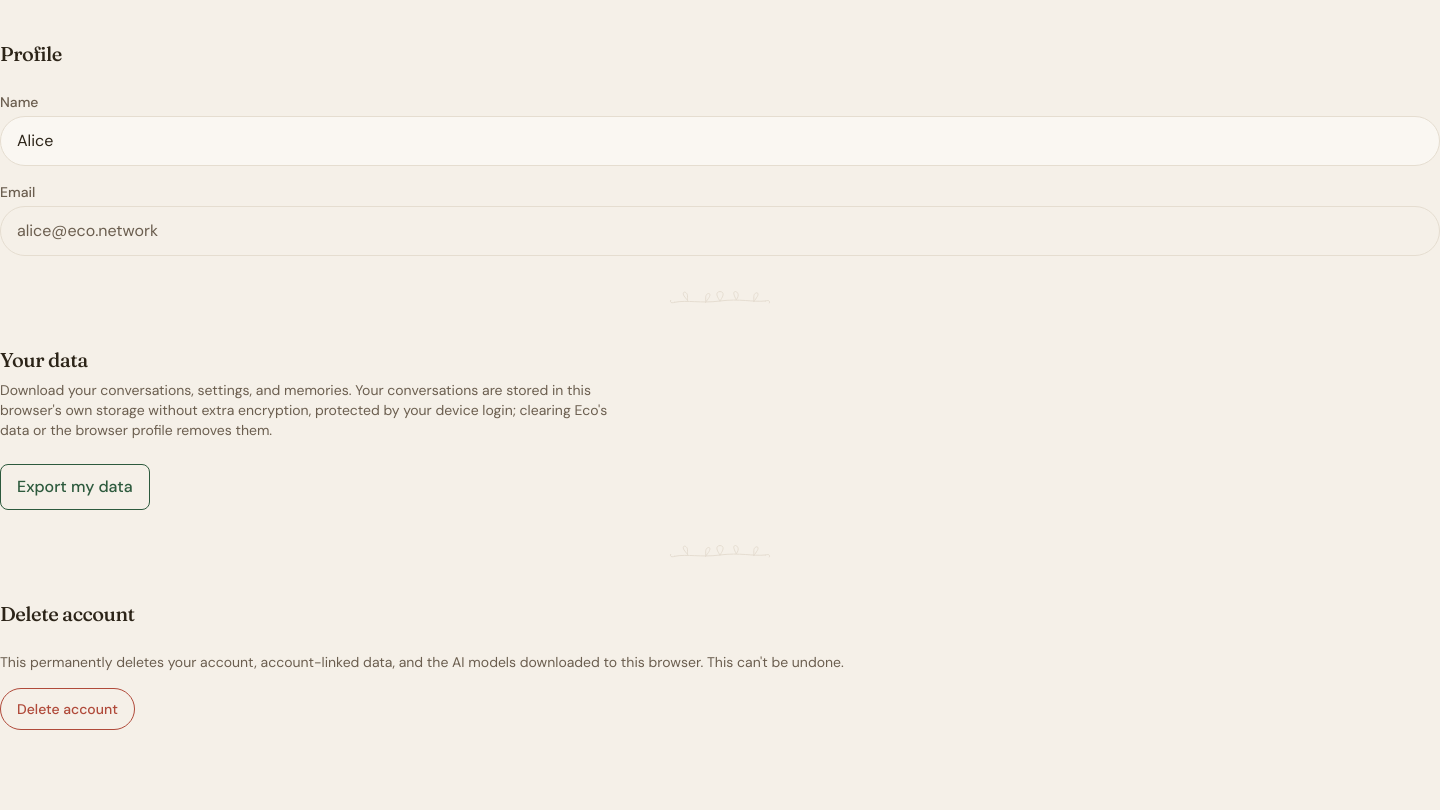
AccountTab › shows the api reauthentication message and deletes nothing
This screenshot has width=1440, height=810.
expect the field showing "alice@eco.network" is shown: met, box 0,206 -> 1439,256
Click the button "Delete account" at x=67, y=709, box 0,688 -> 135,730
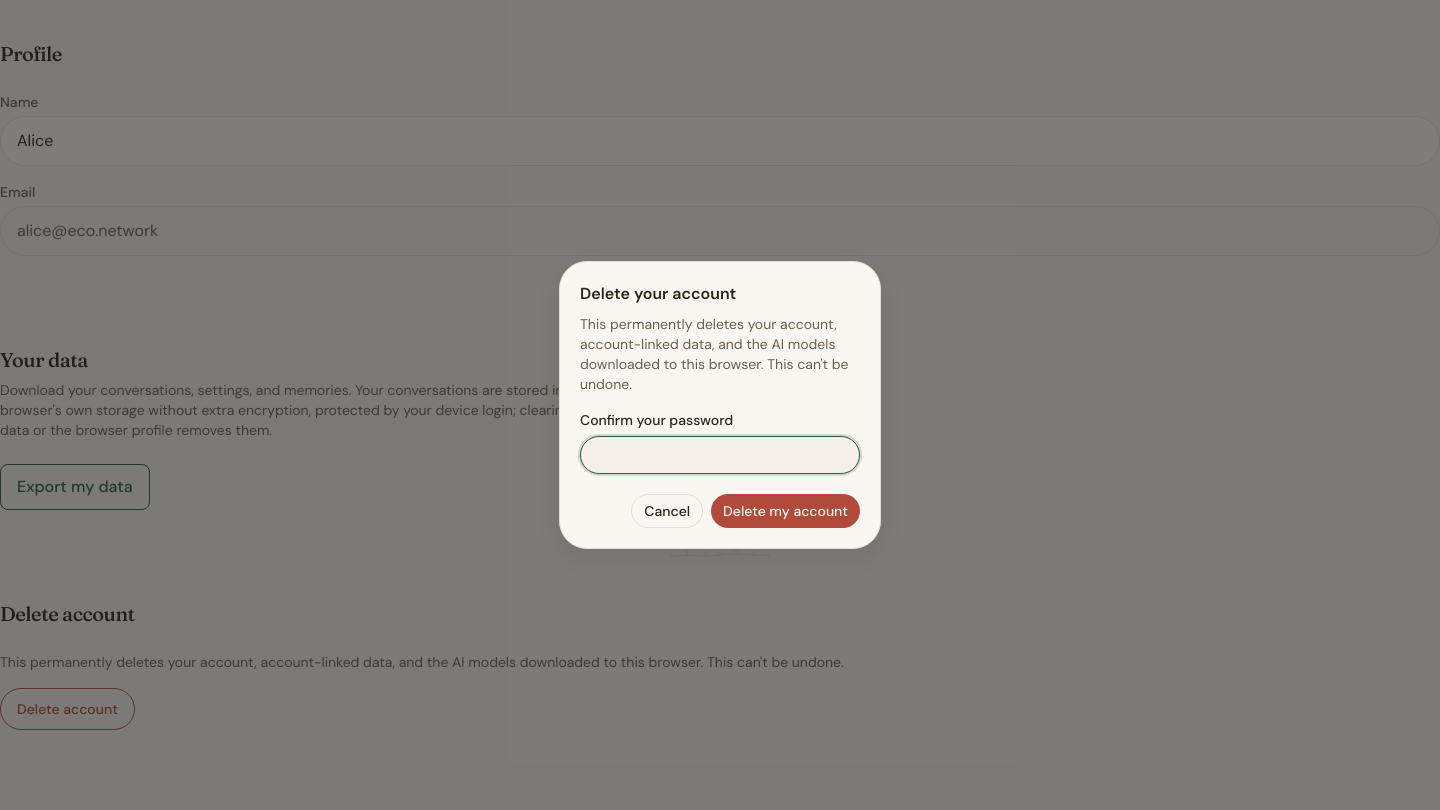
Click the button "Delete my account" at x=786, y=511, box 711,494 -> 860,528
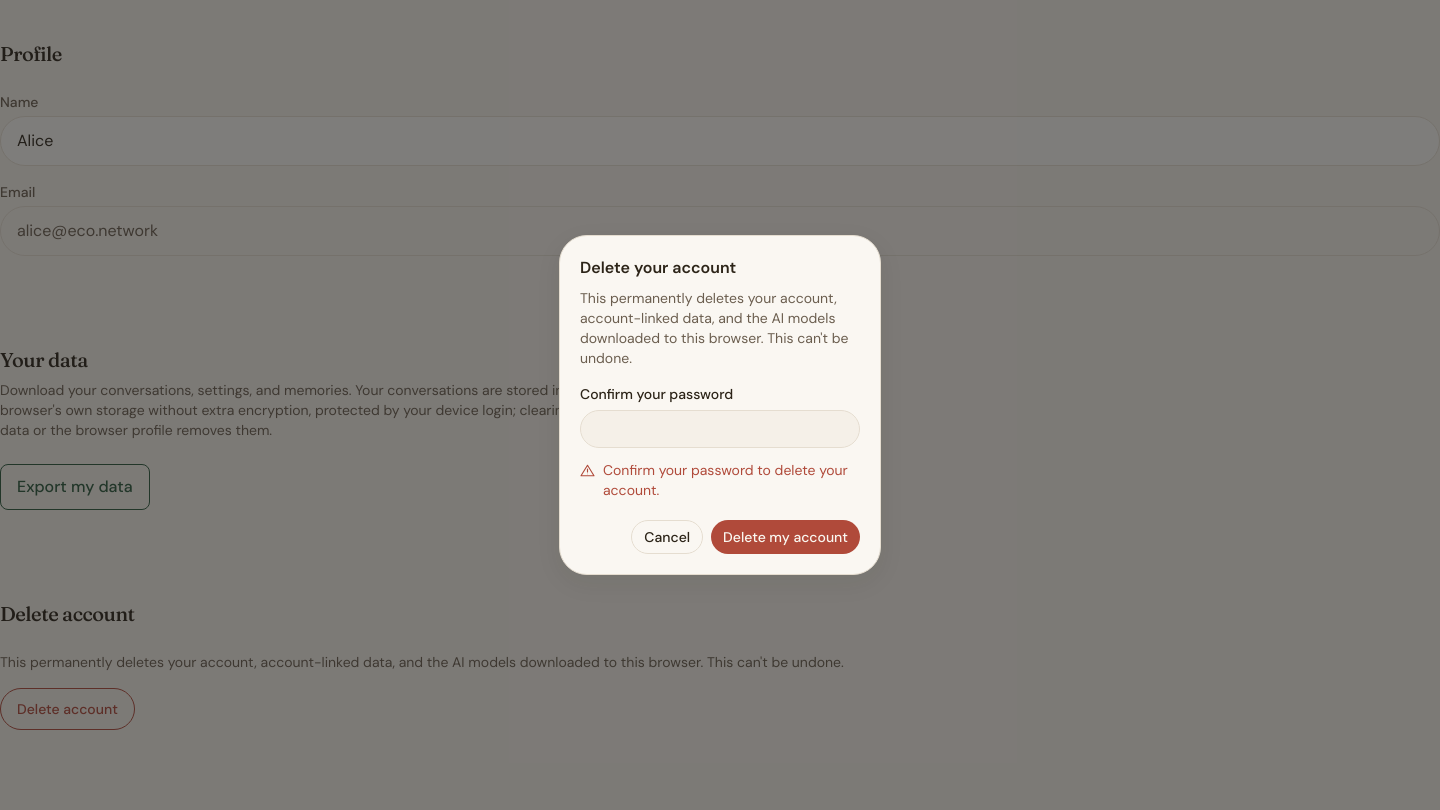
expect the dialog is shown: met, box 559,235 -> 881,575
expect the password field labelled "Confirm your password" is shown: met, box 580,410 -> 860,448
expect the text "Confirm your password to delete your account." is shown: met, box 603,460 -> 860,500
